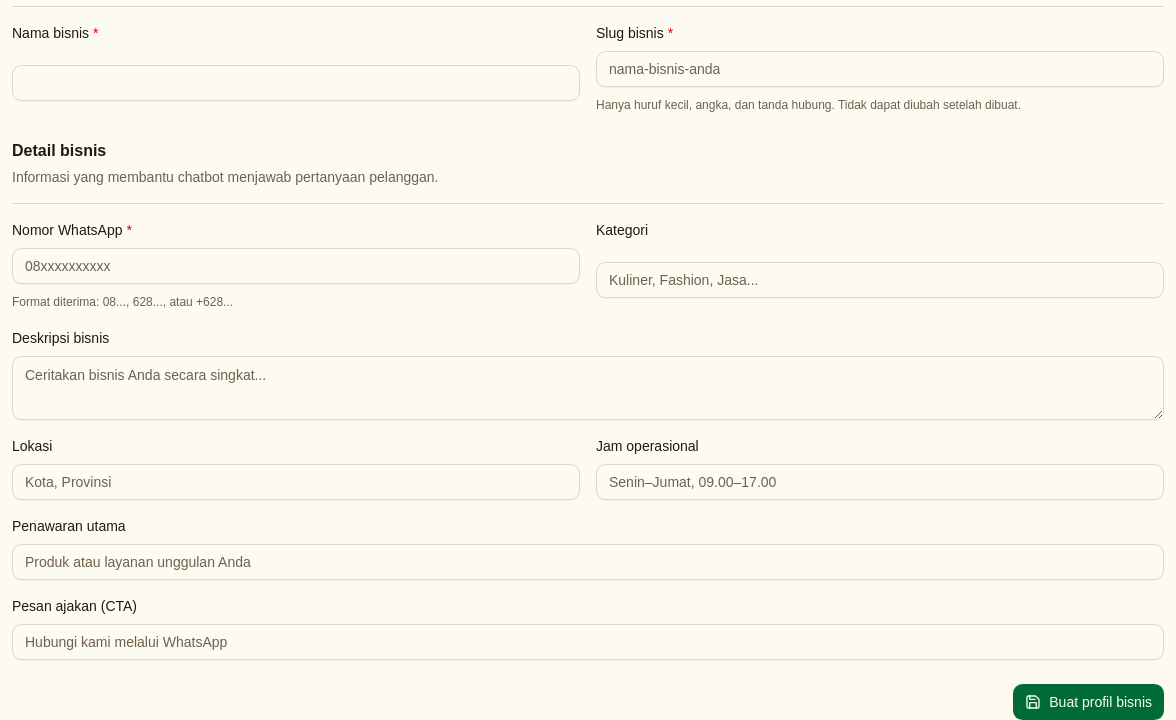
BusinessProfileForm — create mode › validates client-side before sending: requires businessName, slug, and whatsappNumber
(page scrolled)
Click the button "Buat profil bisnis": x=1089, y=702 [1013,684,1164,719]
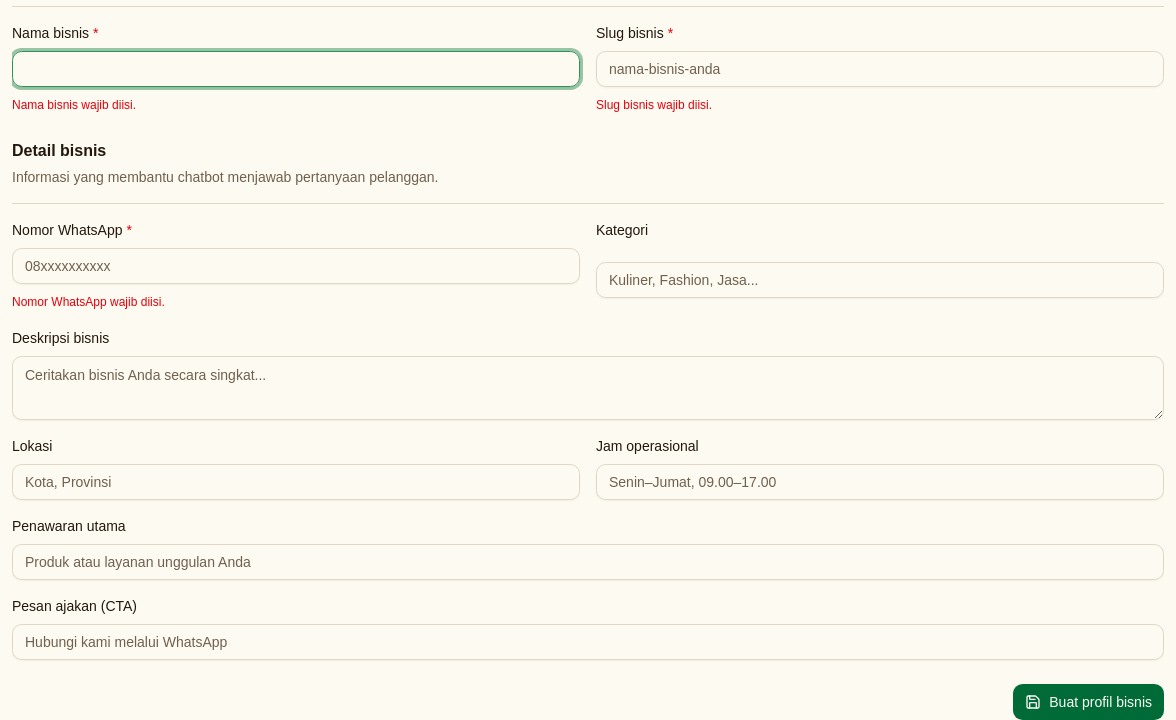
Now the text "Nama bisnis wajib diisi." is shown, box [12,98,136,112]
Now the text "Slug bisnis wajib diisi." is shown, box [596,98,712,112]
Now the text "Nomor WhatsApp wajib diisi." is shown, box [12,295,165,309]
